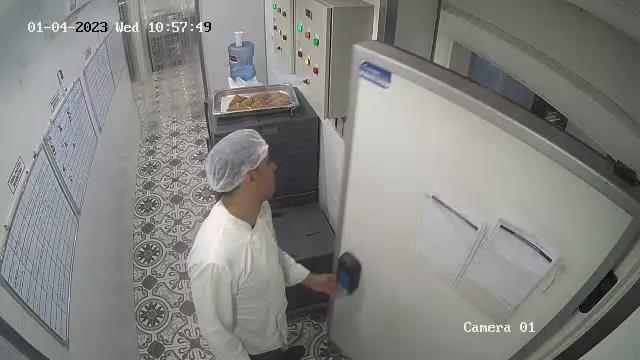no_apron: (196, 207, 278, 345)
